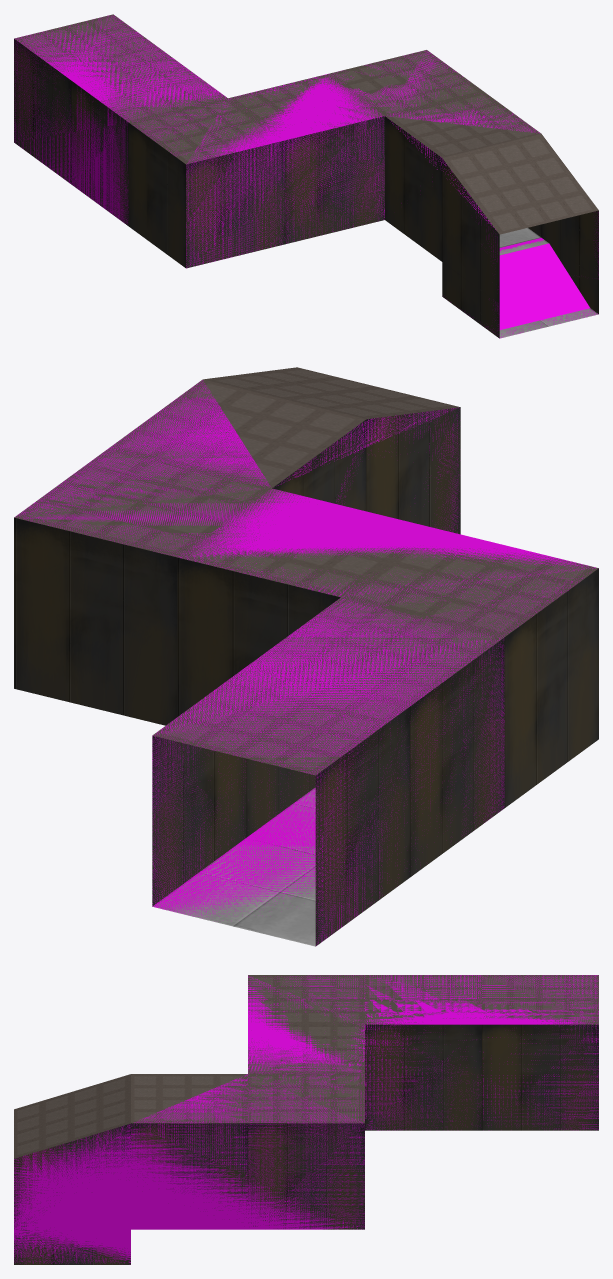
The model's file is mint_connector1.fbx.
3 renders of one model, top to bottom at view 1: azimuth 30°, elevation 25°; view 2: azimuth 150°, elevation 25°; view 3: azimuth 270°, elevation 25°, orthographic. The views are drawn at different scales.
Parts seen in each view (by area): view 1: wall, polySurface1, stair_collsion, floor; view 2: wall, polySurface1, floor (×2); view 3: wall, polySurface1.
Part boxes in pixels (<box>): wall: <box>14,14,598,338</box>; polySurface1: <box>14,15,598,335</box>; stair_collsion: <box>499,238,589,329</box>; floor: <box>499,228,598,338</box>; wall: <box>14,367,598,945</box>; polySurface1: <box>15,380,598,945</box>; floor (×2): <box>152,787,315,946</box>; wall: <box>14,975,598,1264</box>; polySurface1: <box>14,975,598,1264</box>.
Size of the model in its own units: 45 by 20 by 75.
